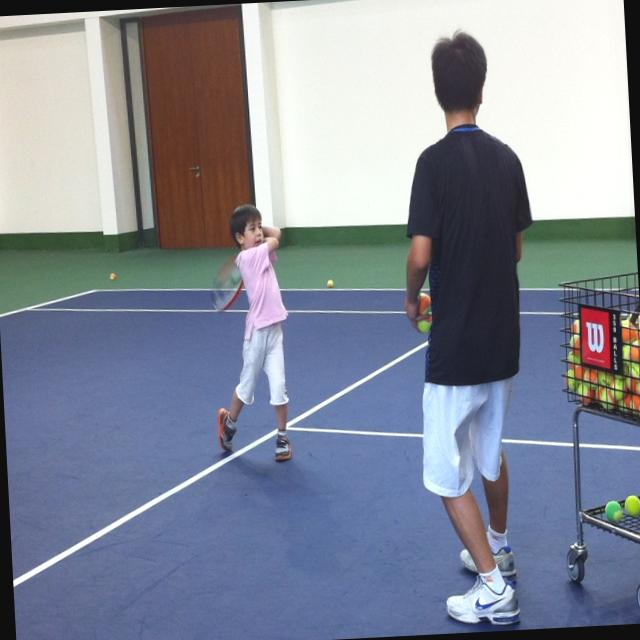Tennis Ball: (562, 316, 640, 422), (606, 501, 620, 525), (624, 495, 640, 516), (325, 278, 334, 287), (108, 270, 116, 280)
